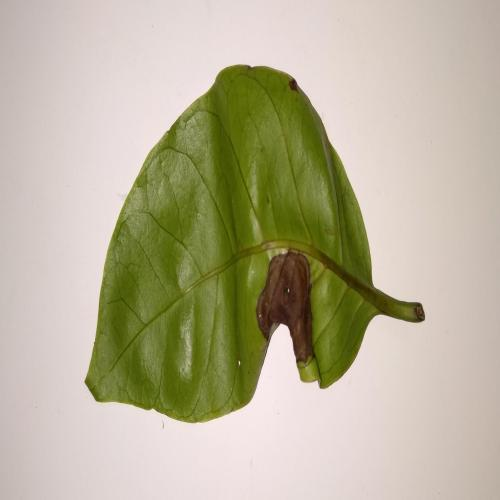miner: (257, 249, 314, 366)
